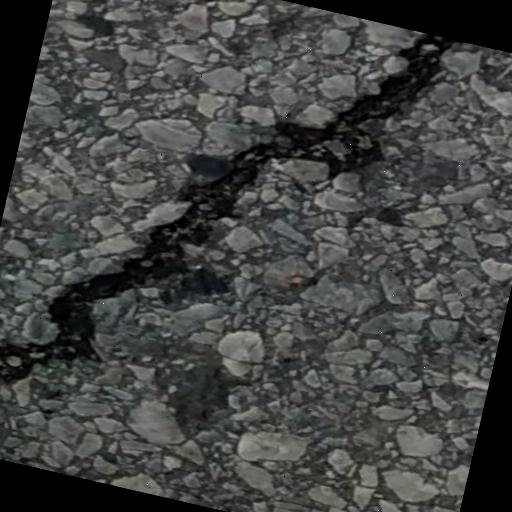spalling: (0, 30, 469, 397)
